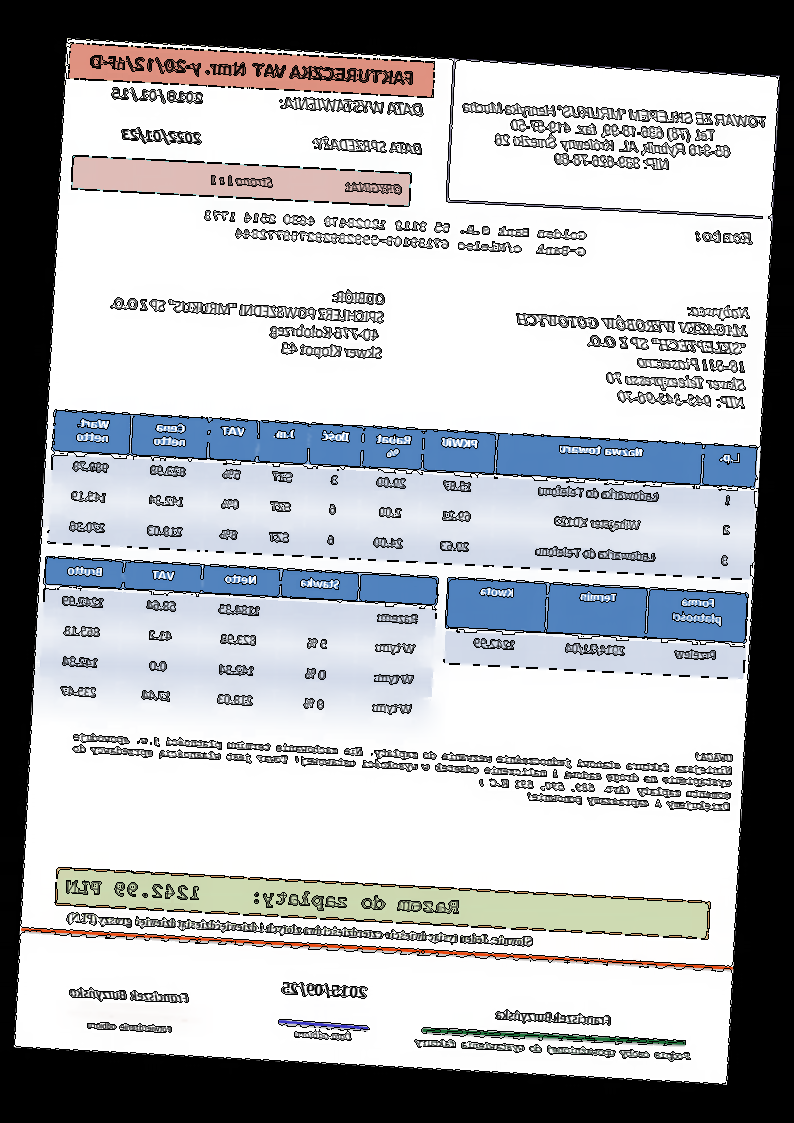Table: (47, 409, 759, 581), (36, 555, 440, 729), (444, 575, 750, 681)
TextBox: (69, 717, 736, 814), (510, 293, 752, 411), (458, 96, 769, 178), (108, 275, 387, 362), (201, 208, 588, 260), (66, 910, 534, 949), (65, 875, 462, 919), (89, 50, 417, 89), (414, 1035, 692, 1064), (208, 171, 405, 198), (277, 92, 426, 118), (68, 985, 191, 1007), (310, 134, 425, 157), (495, 1007, 614, 1028), (111, 86, 205, 108), (281, 979, 369, 1000), (118, 126, 204, 146), (86, 1019, 175, 1035), (694, 226, 755, 247), (293, 1027, 354, 1044)
